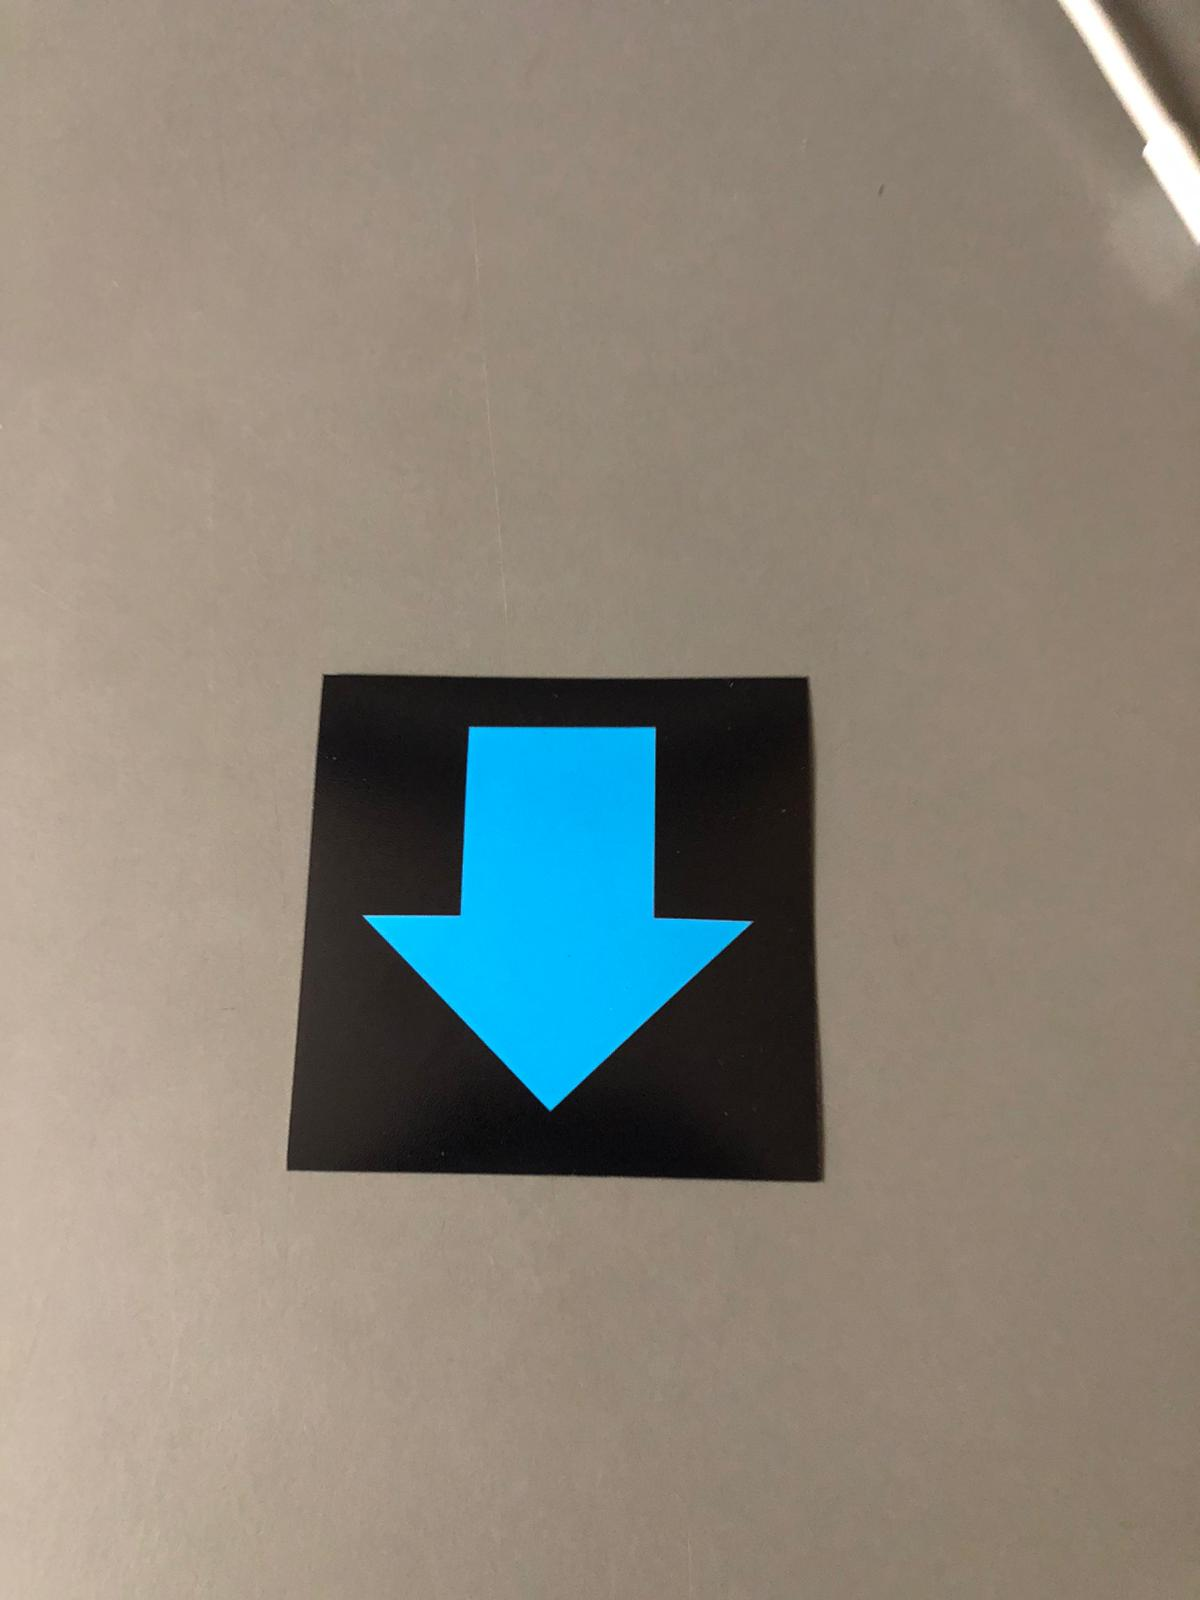Down Arrow: (314, 690, 811, 1160)
